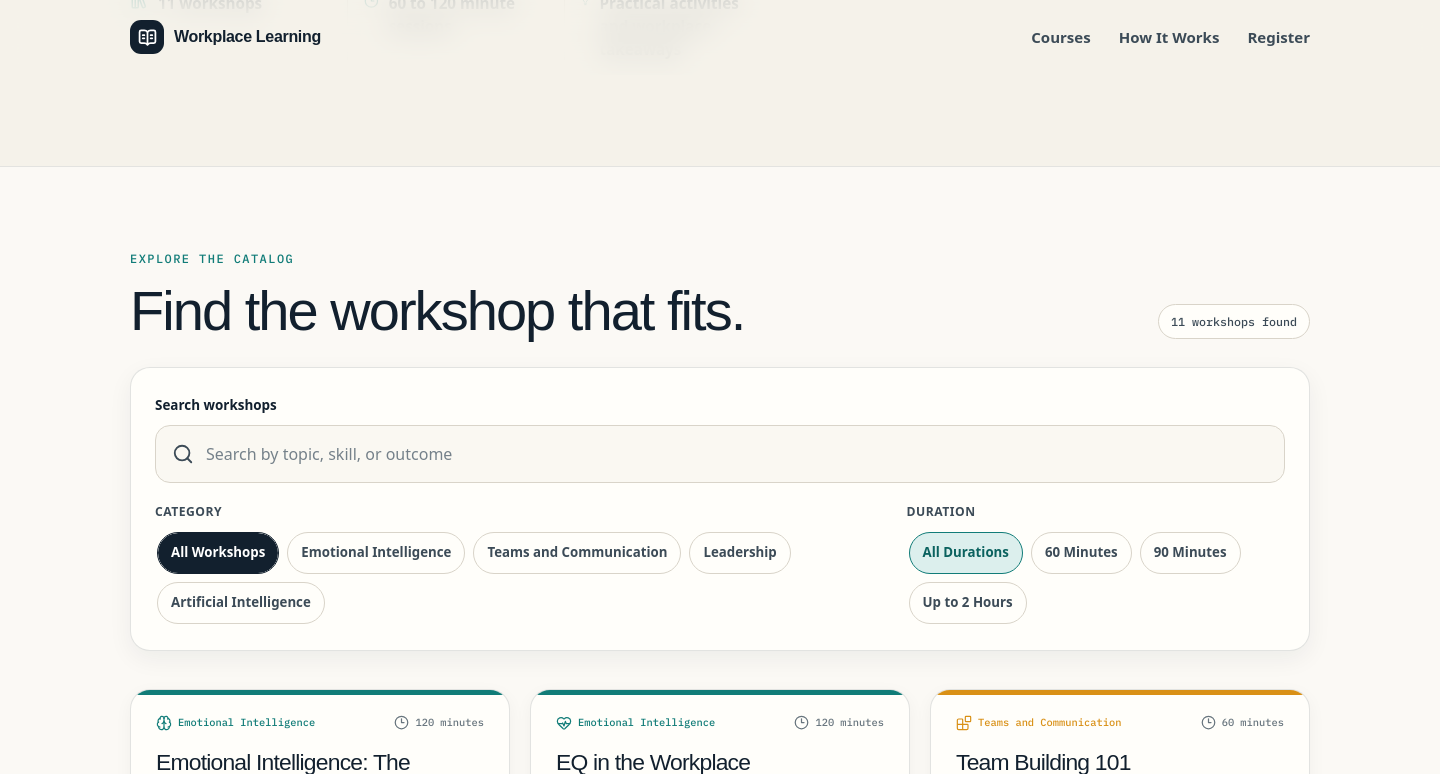
Test: workshop explorer › shows a useful no-results state
(page scrolled)
Step 1. Type "underwater welding" into the search field labelled "Search workshops" → (739, 454), box [194,426,1284,482]
(page scrolled)
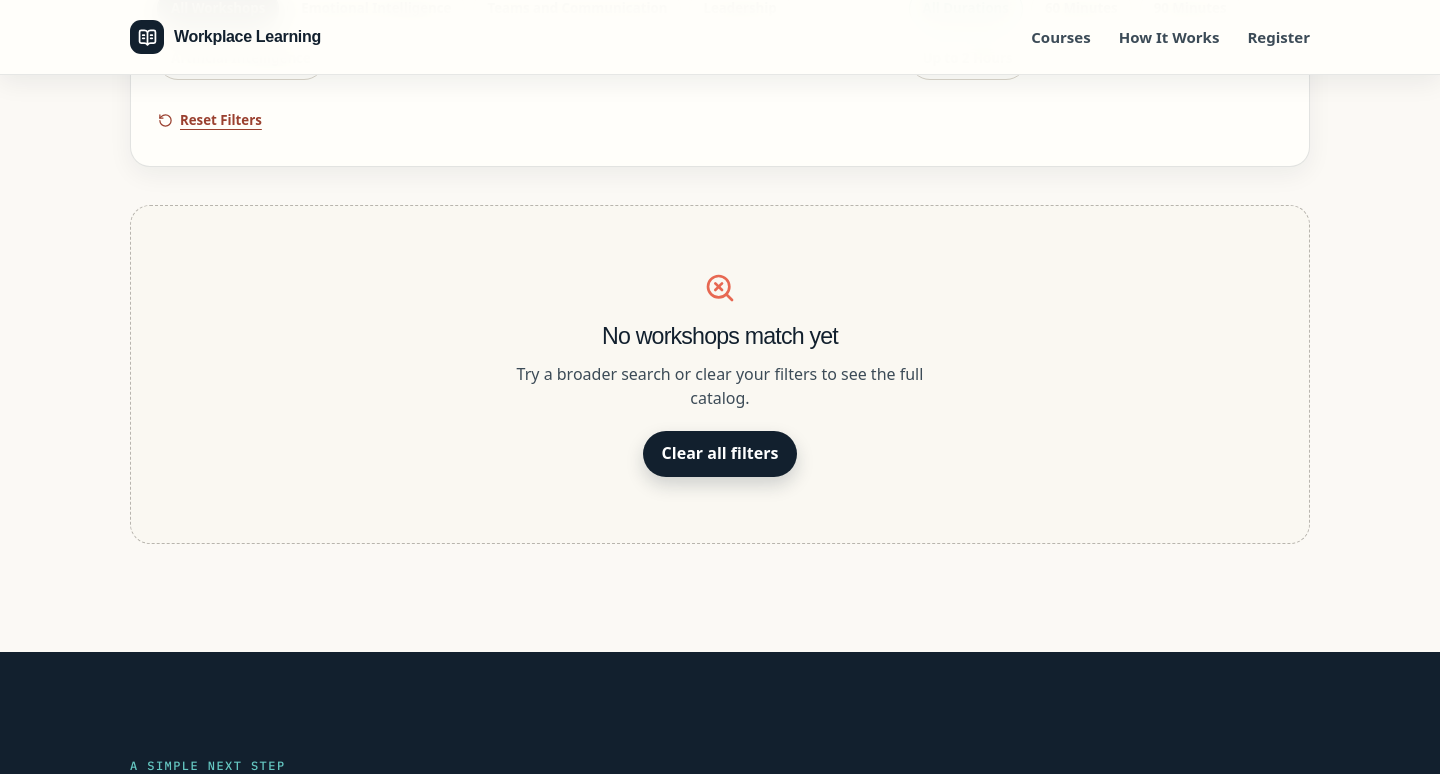
Expected: the text "Try a broader search" is shown, [517,363,923,409]
Expected: the button "Clear all filters" is shown, [643,431,797,477]
